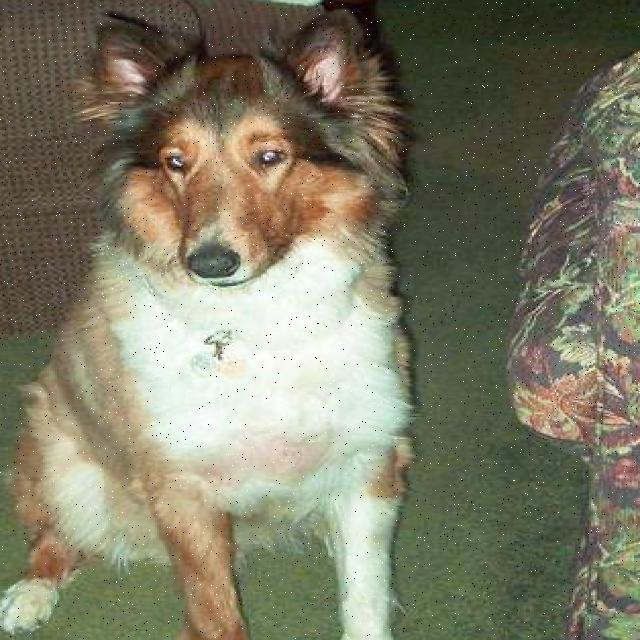Dog: (80, 2, 393, 322)
